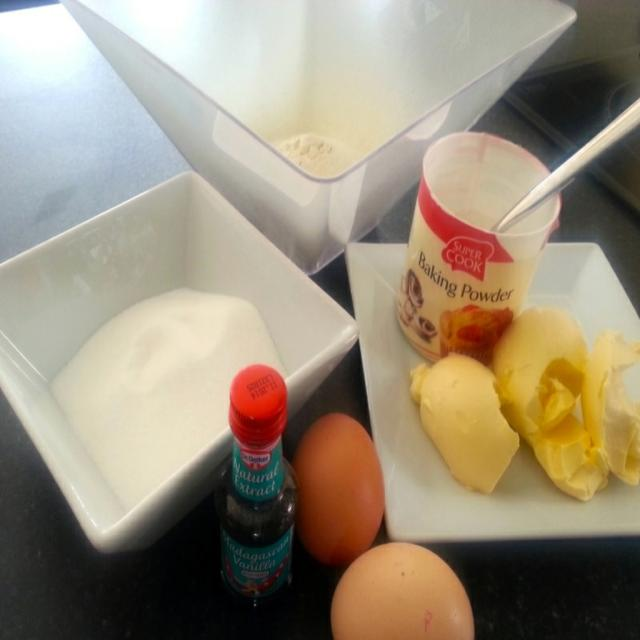Egg: (327, 537, 478, 639), (290, 411, 386, 570)
